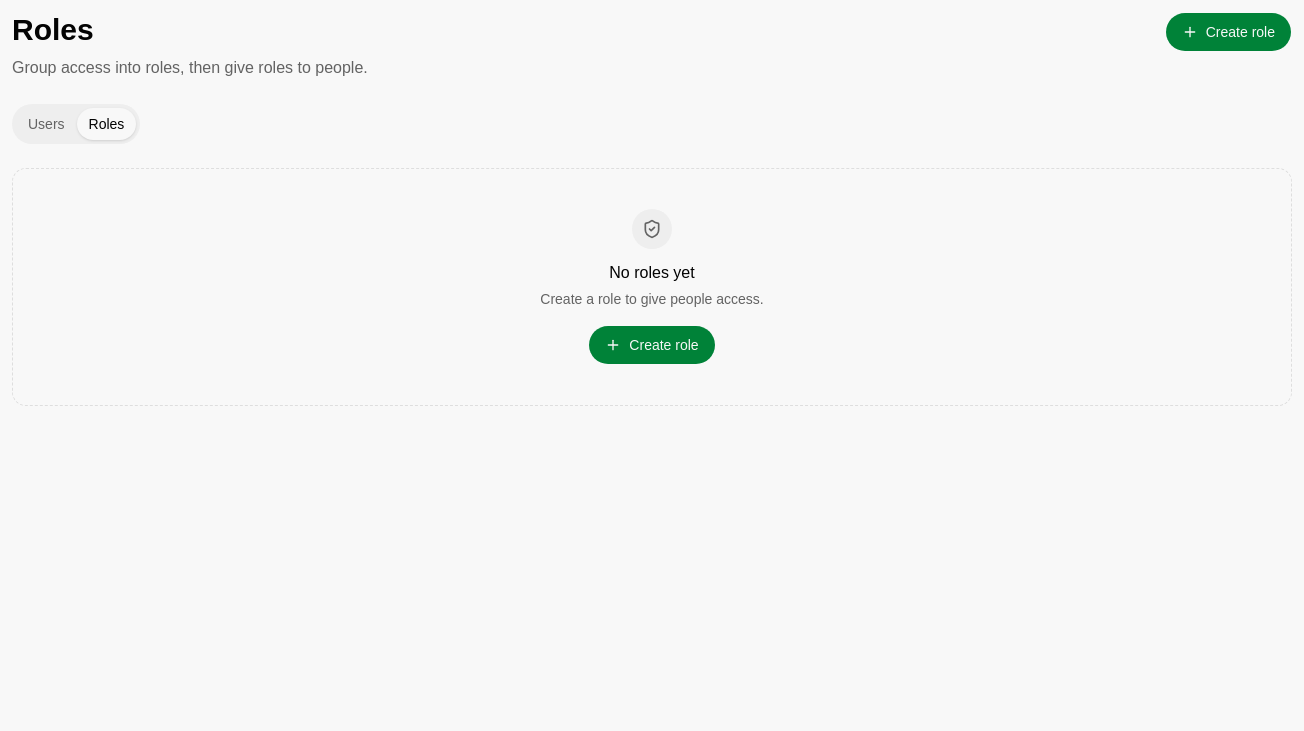
Scenario: role management › creates a blank role immediately and opens its page without a dialog
Step 1. Click the 1st button "Create role" → (1228, 32), box [1165,12,1292,52]
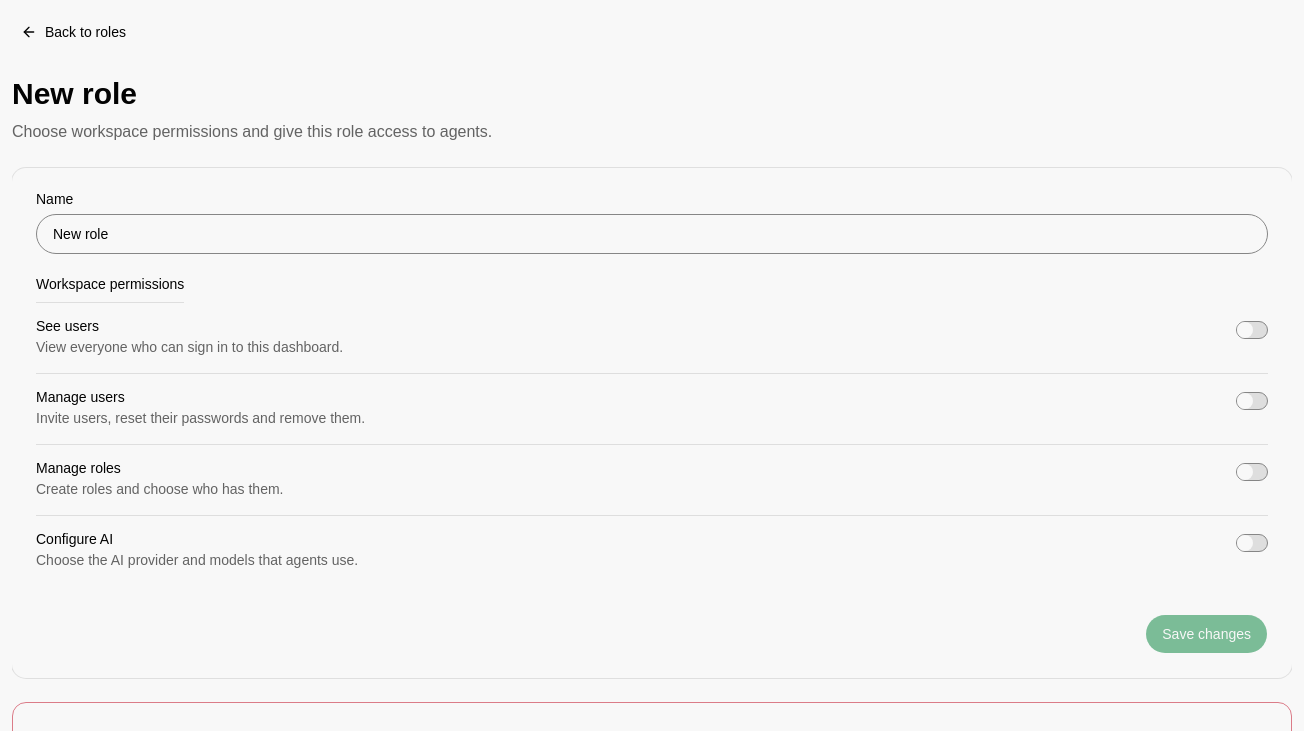
Expected: the field labelled "Name" holds "New role", [36,214,1268,254]
